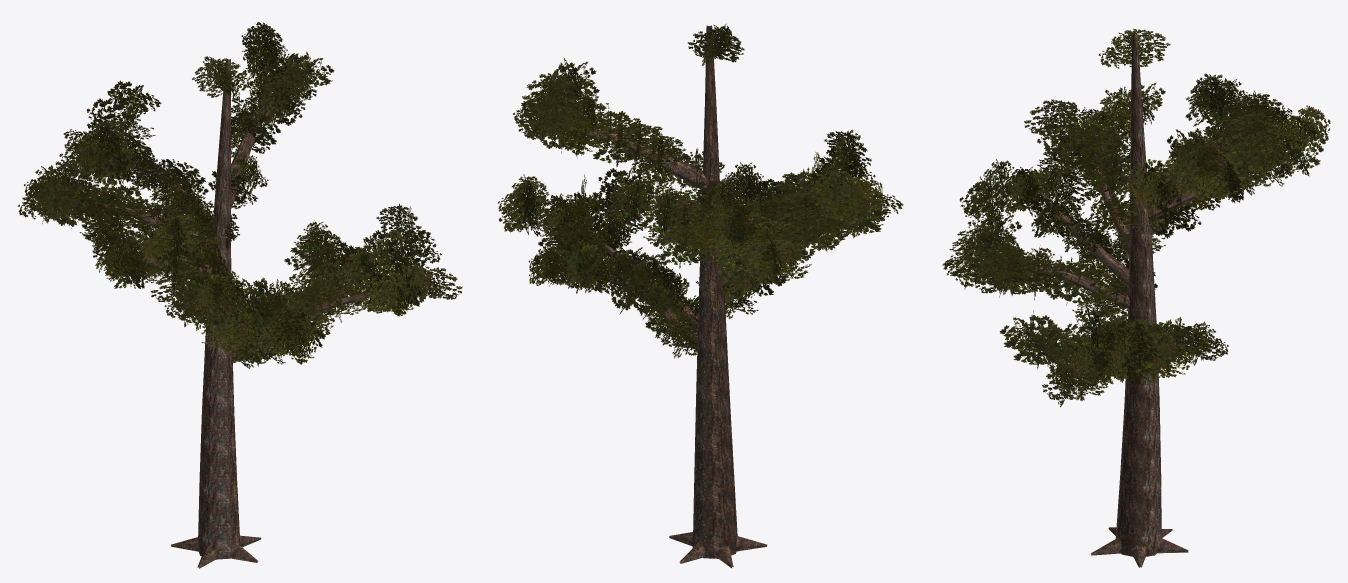
Rendered from tree_3d_05_lod1.glb.
The picture shows the model from 3 angles, left to right: view 1: azimuth 30°, elevation 25°; view 2: azimuth 150°, elevation 25°; view 3: azimuth 270°, elevation 25°; orthographic projection. The views are drawn at different scales.
Parts seen in each view (by area): view 1: foliage_cards, wood_geometry; view 2: foliage_cards, wood_geometry; view 3: foliage_cards, wood_geometry.
Boxes of the visible parts, bbox=[...] form: foliage_cards: bbox=[18, 22, 462, 368]; wood_geometry: bbox=[75, 59, 423, 568]; foliage_cards: bbox=[498, 23, 903, 358]; wood_geometry: bbox=[541, 25, 853, 568]; foliage_cards: bbox=[942, 28, 1330, 407]; wood_geometry: bbox=[977, 35, 1277, 567].
Bounding box in the file's own units: 11.18 × 14.65 × 10.09.
2 materials, 2 textured.
